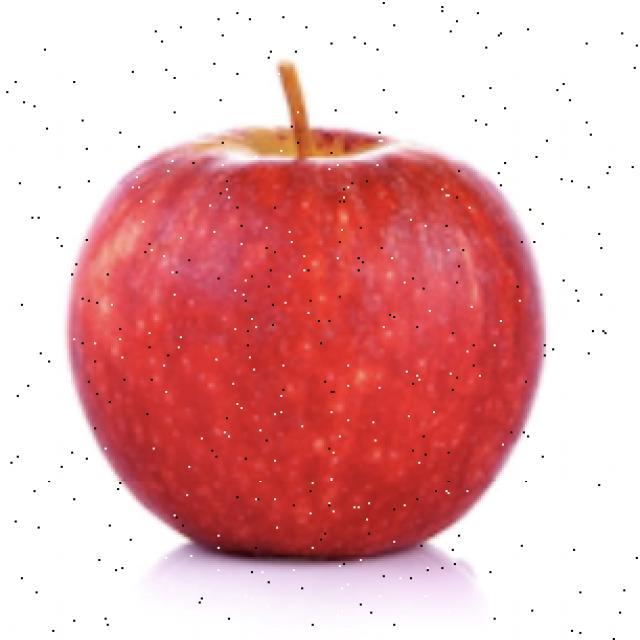Fresh Apple: (85, 135, 548, 583)
